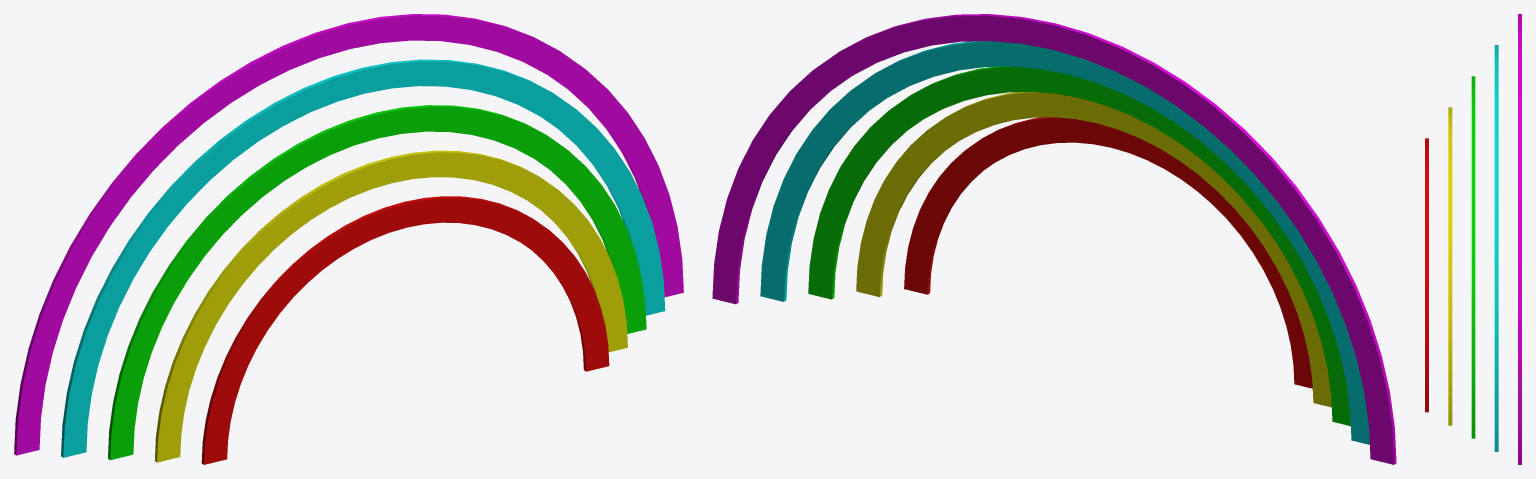
Rendered from arcs.fbx.
3 views of the same model, side by side, from view 1: azimuth 30°, elevation 25°; view 2: azimuth 150°, elevation 25°; view 3: azimuth 270°, elevation 25° (orthographic). The views are drawn at different scales.
Parts seen in each view (by area): view 1: arcs; view 2: arcs; view 3: arcs.
Boxes of the visible parts, left/top/right/bottom form: arcs: left=14, top=14, right=683, bottom=464; arcs: left=712, top=14, right=1396, bottom=464; arcs: left=1425, top=14, right=1521, bottom=464.
Size of the model in its own units: 24.54 by 12.27 by 3.75.
